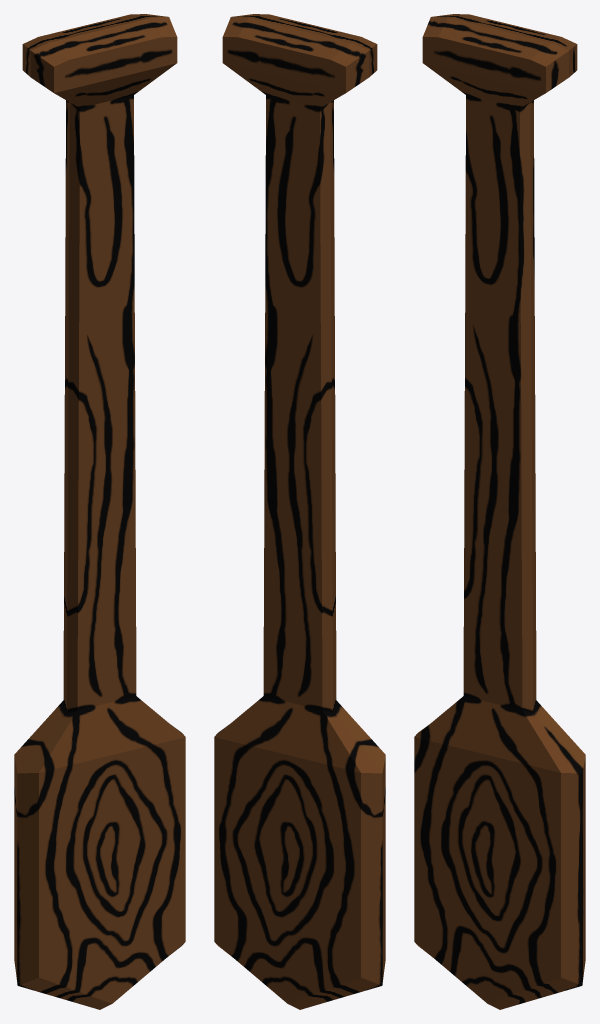
File: Paddle_C.FBX
3 renders of one model, left to right at view 1: azimuth 30°, elevation 25°; view 2: azimuth 150°, elevation 25°; view 3: azimuth 330°, elevation 25°, orthographic.
Parts seen in each view (by area): view 1: Paddle_C; view 2: Paddle_C; view 3: Paddle_C.
Boxes of the visible parts, x1,y1,x2,y2 form: Paddle_C: (14,14,185,1009); Paddle_C: (214,14,385,1009); Paddle_C: (414,14,585,1009).
Bounding box in the file's own units: 147 × 48.26 × 836.
1 material, 1 textured.
